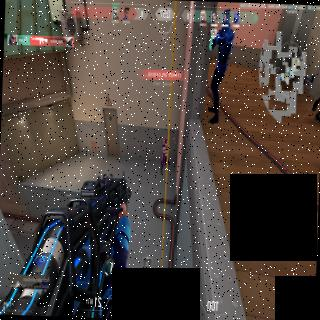ENEMY-BODY: (160, 137, 170, 176)
ENEMY-HEAD: (164, 138, 167, 145)
